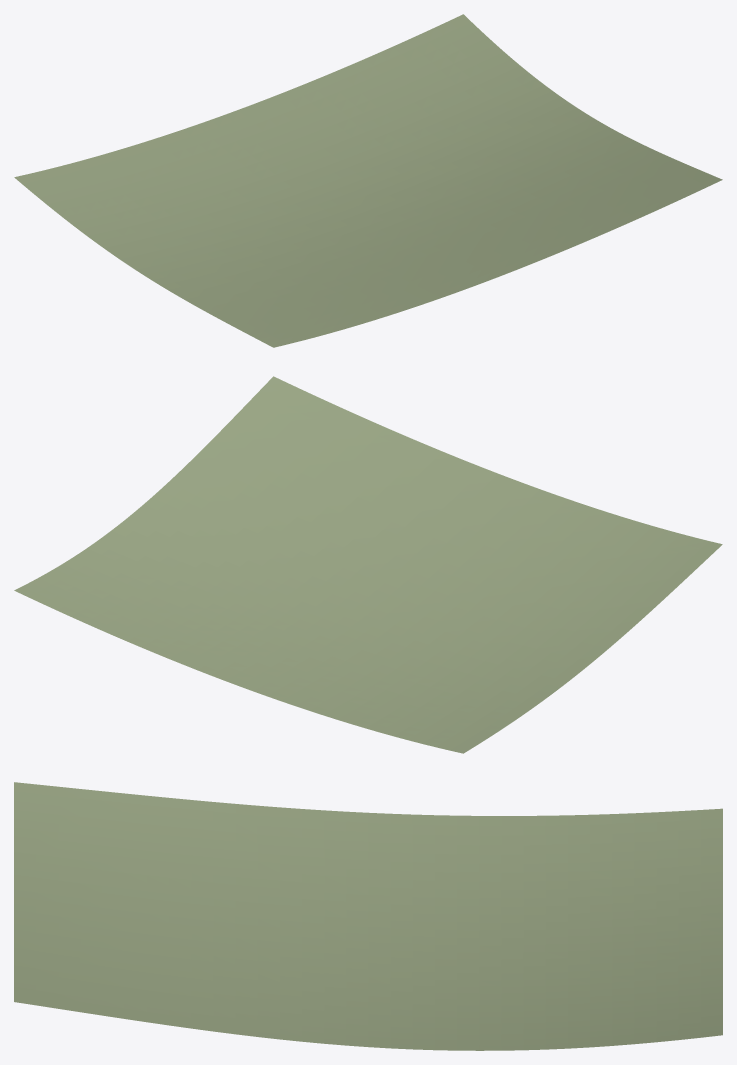
The model's file is desert-22-5.glb.
3 renders of one model, top to bottom at view 1: azimuth 30°, elevation 25°; view 2: azimuth 150°, elevation 25°; view 3: azimuth 270°, elevation 25°, orthographic. The views are drawn at different scales.
Visible parts, largest first — view 1: desert-22-5; view 2: desert-22-5; view 3: desert-22-5.
Boxes of the visible parts, bbox=[...] form: desert-22-5: bbox=[14, 14, 722, 347]; desert-22-5: bbox=[14, 376, 722, 753]; desert-22-5: bbox=[14, 782, 722, 1050].
Bounding box in the file's own units: 512 × 91.51 × 512.
